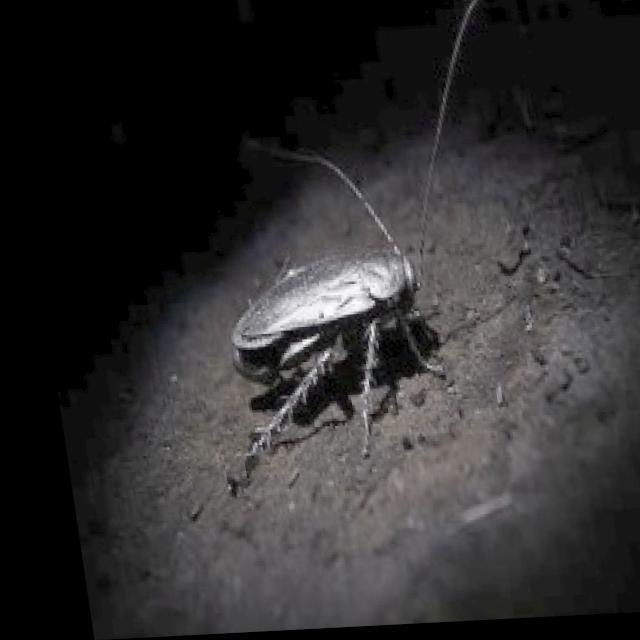cockroach: (223, 220, 434, 440)
